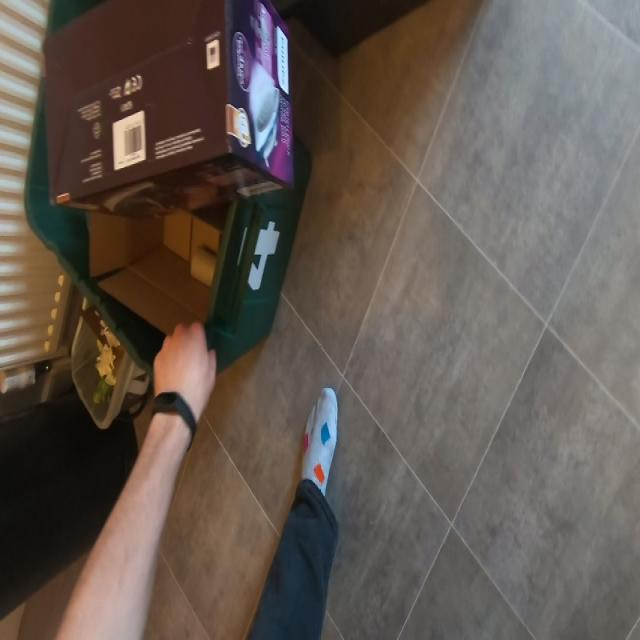left hand: (134, 320, 223, 451)
recycle bin: (22, 0, 297, 368)
